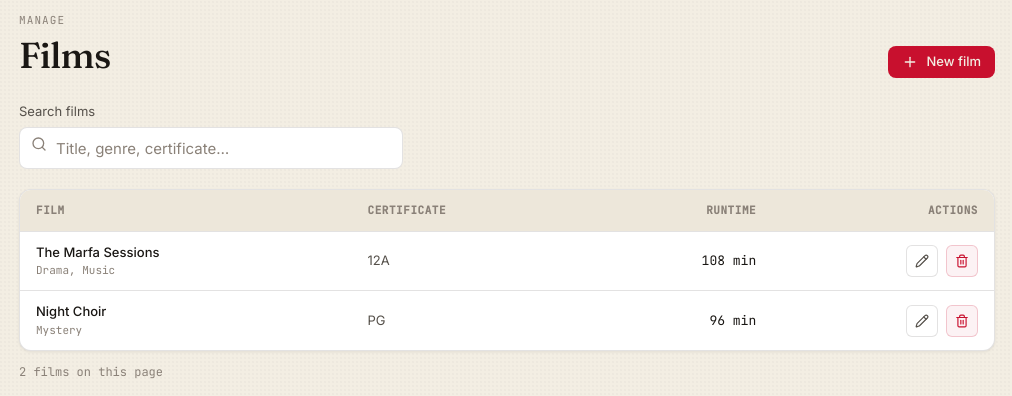
Test: AdminFilmsPage › lists films with a search filter
Expected: the text "The Marfa Sessions" is shown, left=36, top=244, right=160, bottom=260
Expected: the text "Night Choir" is shown, left=36, top=303, right=106, bottom=319
Type "Drama" into the field labelled "Search films". click: (211, 148)
box: left=19, top=127, right=403, bottom=169
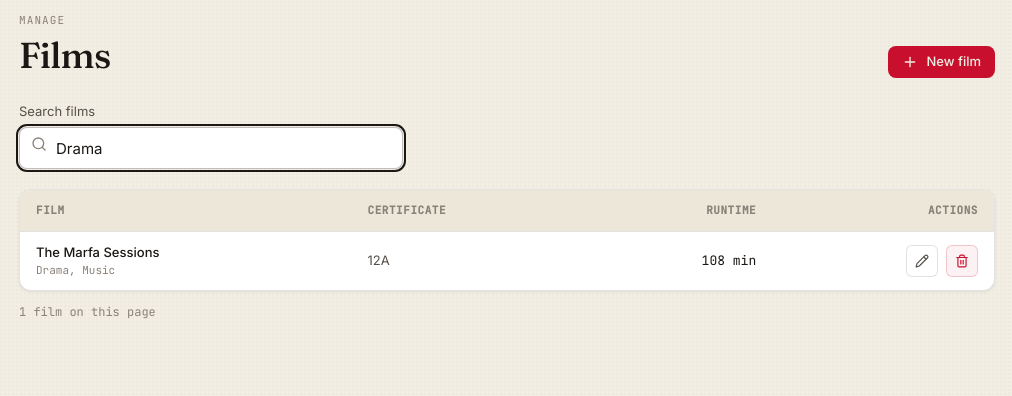
Expected: the text "The Marfa Sessions" is shown, left=36, top=244, right=160, bottom=260
Expected: the text "Night Choir" is gone
